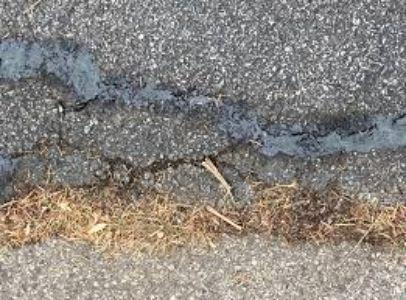crack: (3, 117, 406, 206)
